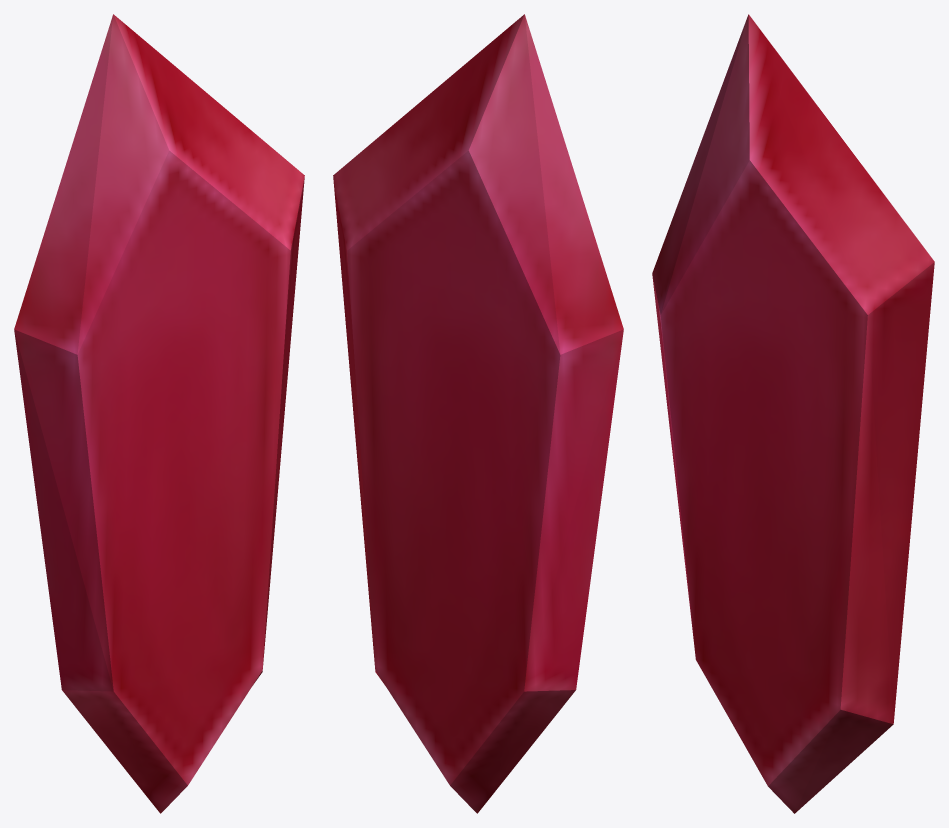
File: ice_ruby.FBX
3 renders of one model, left to right at view 1: azimuth 30°, elevation 25°; view 2: azimuth 150°, elevation 25°; view 3: azimuth 330°, elevation 25°, orthographic. The views are drawn at different scales.
Visible parts, largest first — view 1: Object035; view 2: Object035; view 3: Object035.
Part boxes in pixels (bbox=[...]): Object035: bbox=[14, 14, 304, 813]; Object035: bbox=[333, 14, 623, 813]; Object035: bbox=[652, 14, 934, 813].
Size of the model in its own units: 14.49 by 4.72 by 38.65.
